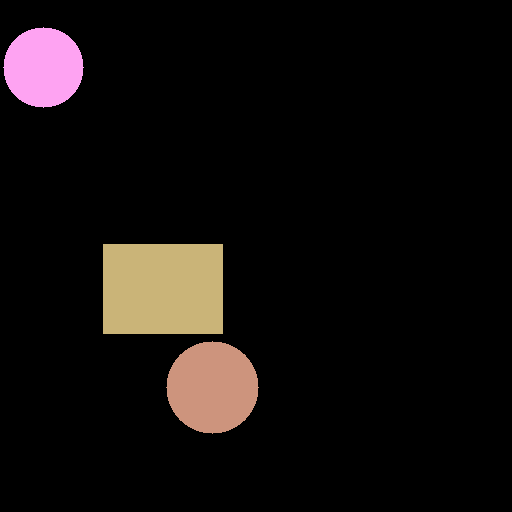circle: (166, 341, 258, 433), (3, 27, 83, 107)
rectangle: (103, 244, 222, 333)
